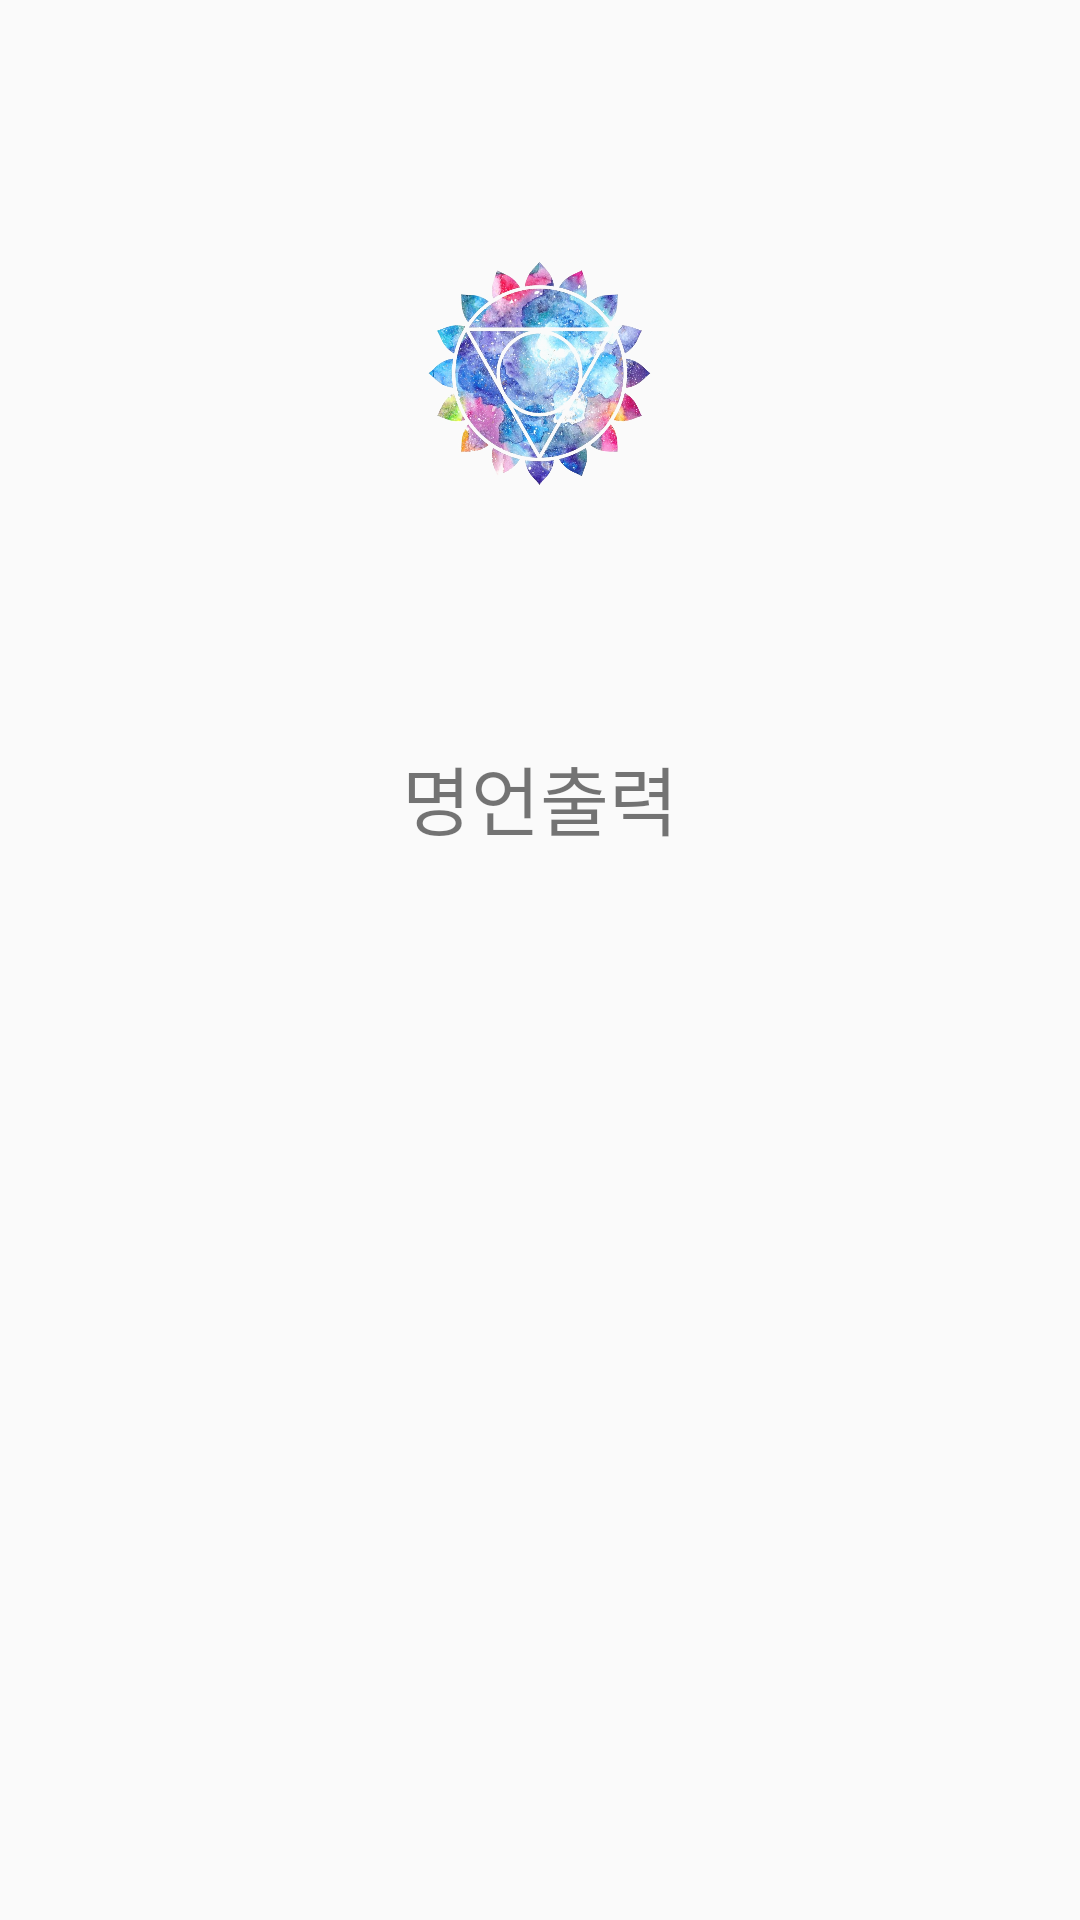

Icons on this 1080px x 1920px Android screen, each with its box as (x1=x1, y1=y1, x2=x2, y2=y2):
chakra: (x1=429, y1=262, x2=650, y2=485)
